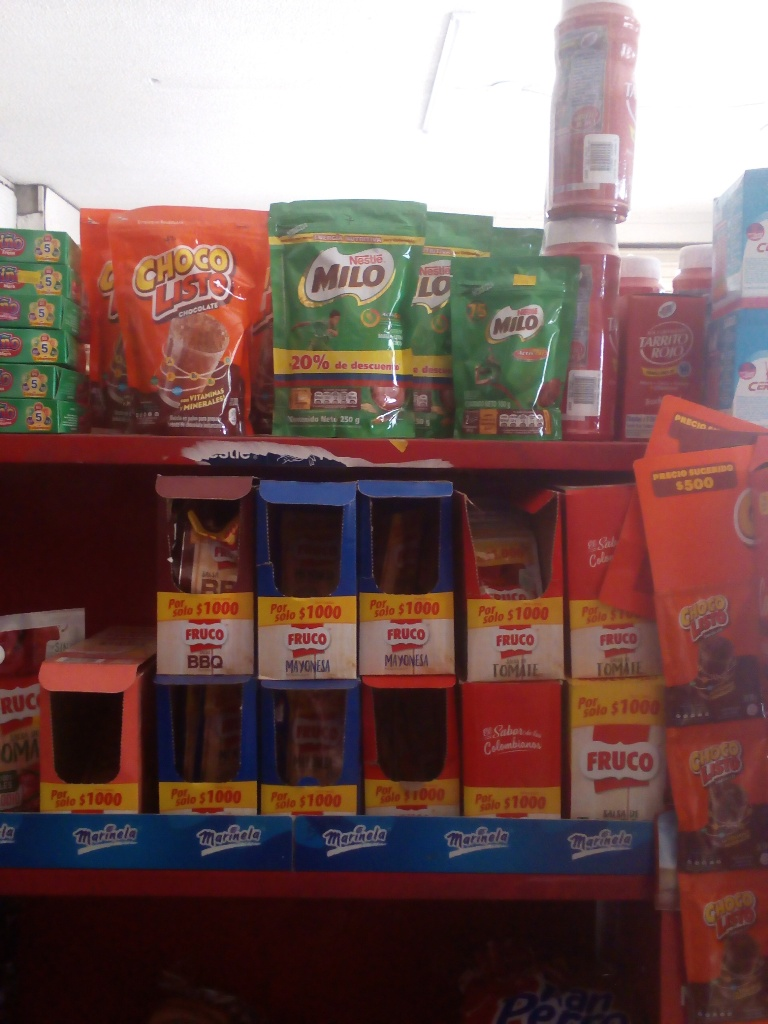COL0170103SOB02000: (655, 575, 767, 727)
COL0170203DYP10000: (447, 254, 580, 444)
